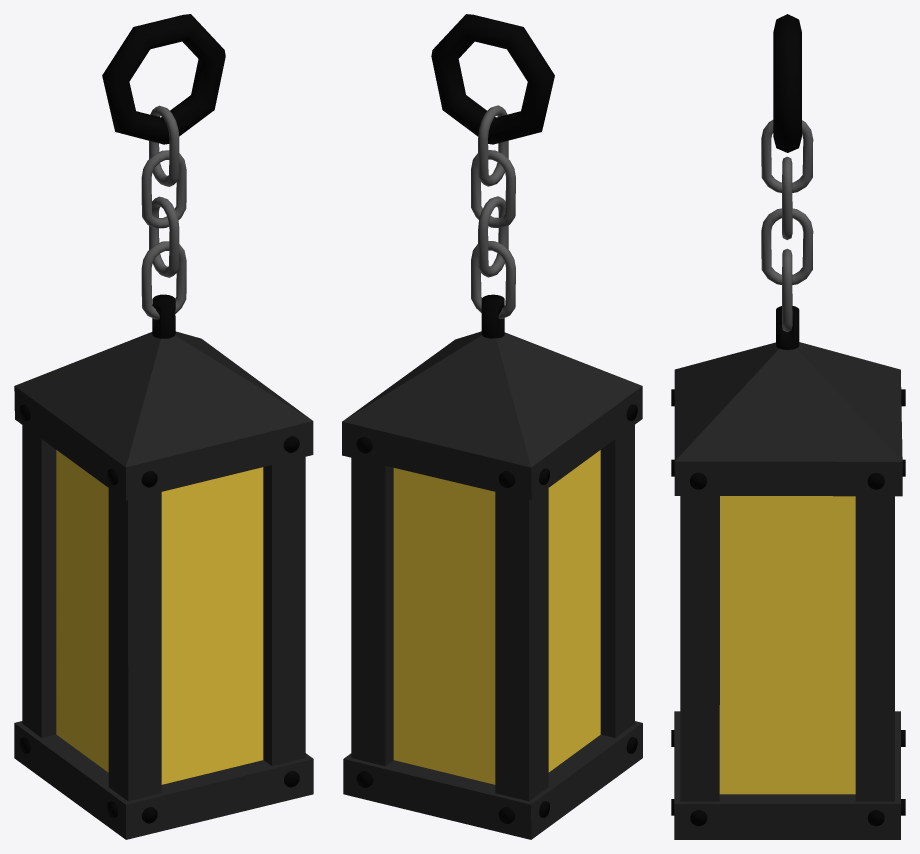
Rendered from Lamp.fbx.
3 views of the same model, side by side, from view 1: azimuth 30°, elevation 25°; view 2: azimuth 150°, elevation 25°; view 3: azimuth 270°, elevation 25° (orthographic).
Visible parts, largest first — view 1: Body; view 2: Body; view 3: Body.
Part boxes in pixels (box(x1,y1,x2,y2)): Body: box(14, 14, 313, 839); Body: box(342, 14, 642, 839); Body: box(671, 14, 905, 839).
Size of the model in its own units: 159 by 592 by 164.
